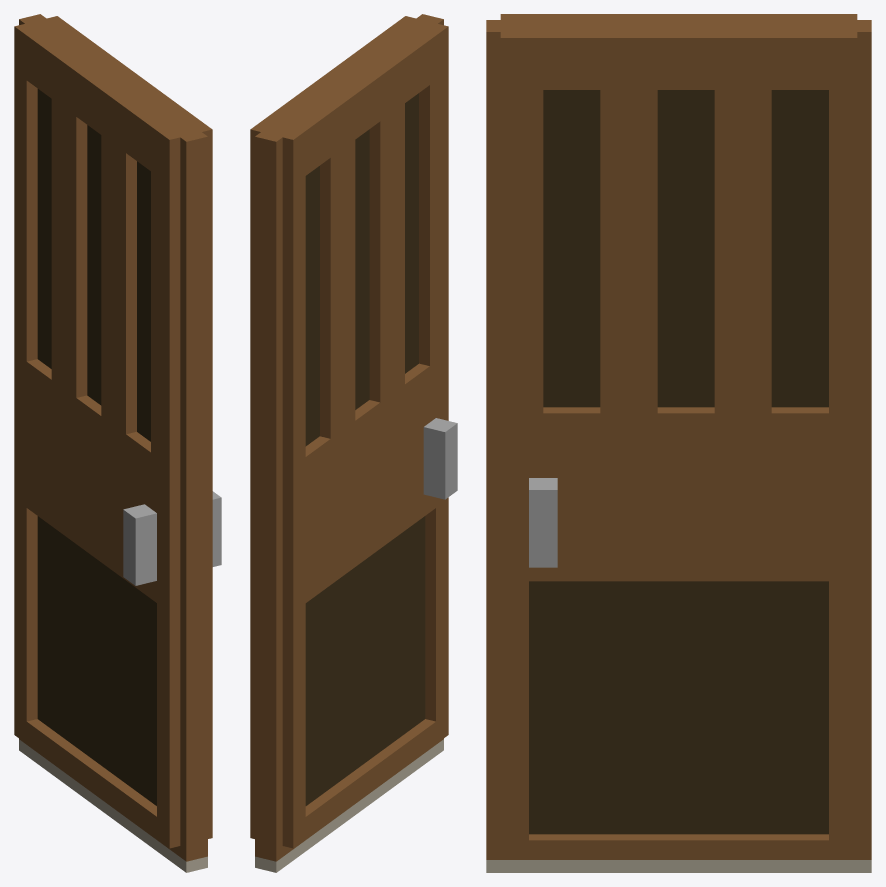
File: Porta.obj
3 renders of one model, left to right at view 1: azimuth 30°, elevation 25°; view 2: azimuth 150°, elevation 25°; view 3: azimuth 270°, elevation 25°, orthographic. The views are drawn at different scales.
Size of the model in its own units: 8 by 65 by 27.
1 material, 1 textured.
